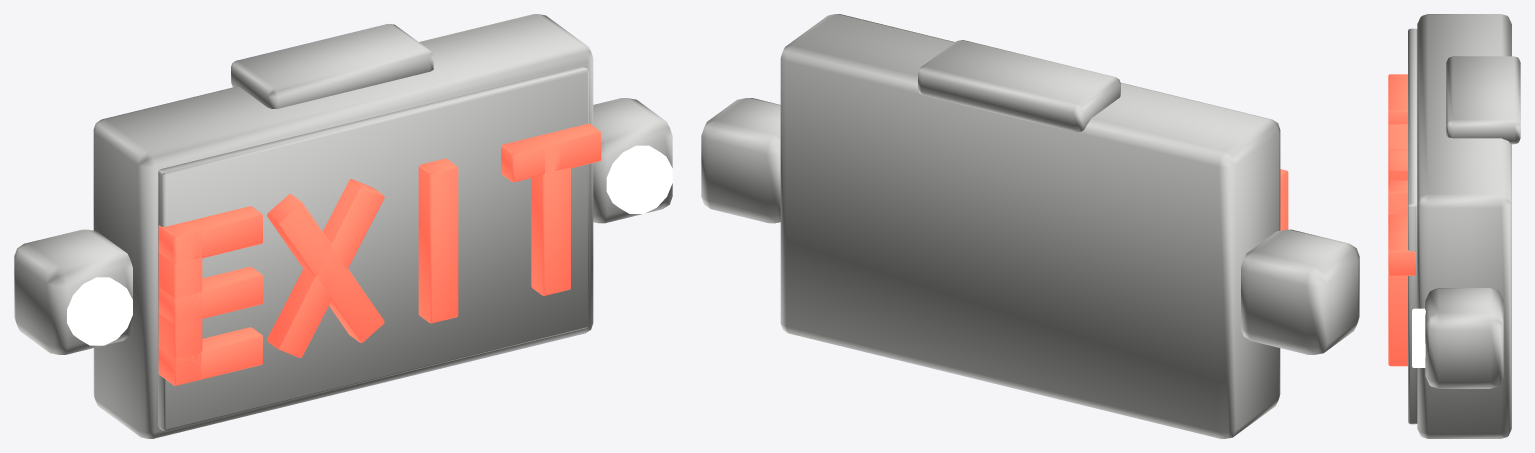
File: asset_094_exit_sign.glb
3 views of the same model, side by side, from view 1: azimuth 30°, elevation 25°; view 2: azimuth 150°, elevation 25°; view 3: azimuth 270°, elevation 25° (orthographic). The views are drawn at different scales.
Parts seen in each view (by area): view 1: MESH_ExitFacePanel, MESH_ExitHousing, MESH_ExitLegend, MESH_ExitCanopy, MESH_ExitLampBodyLeft, MESH_ExitLampBodyRight, MESH_ExitLampLensRight, MESH_ExitLampLensLeft; view 2: MESH_ExitHousing, MESH_ExitLampBodyLeft, MESH_ExitCanopy, MESH_ExitLampBodyRight; view 3: MESH_ExitHousing, MESH_ExitLampBodyRight, MESH_ExitCanopy, MESH_ExitLegend, MESH_ExitFacePanel, MESH_ExitLampLensRight.
Part boxes in pixels (x1=…): MESH_ExitFacePanel: x1=158, y1=66, x2=588, y2=430; MESH_ExitHousing: x1=93, y1=14, x2=593, y2=438; MESH_ExitLegend: x1=158, y1=123, x2=601, y2=385; MESH_ExitCanopy: x1=231, y1=24, x2=433, y2=108; MESH_ExitLampBodyLeft: x1=14, y1=229, x2=132, y2=354; MESH_ExitLampBodyRight: x1=593, y1=98, x2=672, y2=223; MESH_ExitLampLensRight: x1=606, y1=145, x2=672, y2=213; MESH_ExitLampLensLeft: x1=67, y1=277, x2=132, y2=345; MESH_ExitHousing: x1=780, y1=14, x2=1280, y2=438; MESH_ExitLampBodyLeft: x1=1241, y1=229, x2=1359, y2=354; MESH_ExitCanopy: x1=918, y1=40, x2=1120, y2=132; MESH_ExitLampBodyRight: x1=701, y1=98, x2=780, y2=223; MESH_ExitHousing: x1=1417, y1=14, x2=1511, y2=438; MESH_ExitLampBodyRight: x1=1425, y1=288, x2=1503, y2=388; MESH_ExitCanopy: x1=1446, y1=56, x2=1520, y2=144; MESH_ExitLegend: x1=1388, y1=74, x2=1415, y2=366; MESH_ExitFacePanel: x1=1408, y1=28, x2=1417, y2=424; MESH_ExitLampLensRight: x1=1412, y1=308, x2=1425, y2=367.
Size of the model in its own units: 0.454 by 0.213 by 0.098.
